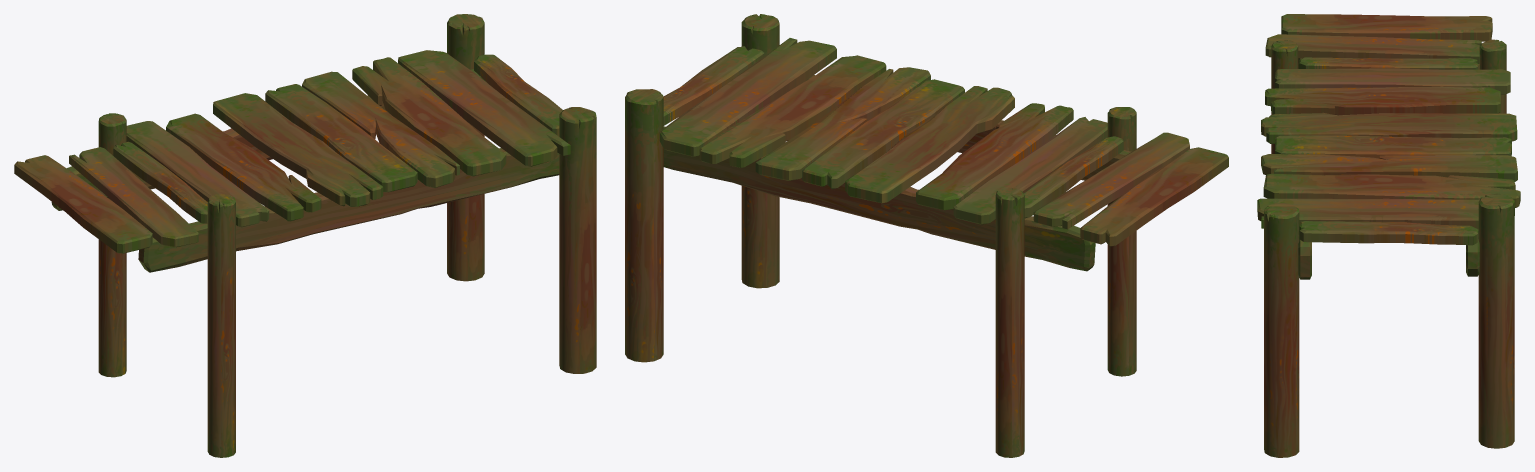
Rendered from prop_bridge_mesh0.FBX.
The picture shows the model from 3 angles, left to right: view 1: azimuth 30°, elevation 25°; view 2: azimuth 150°, elevation 25°; view 3: azimuth 270°, elevation 25°; orthographic projection. The views are drawn at different scales.
Visible parts, largest first — view 1: prop_bridge; view 2: prop_bridge; view 3: prop_bridge.
Boxes of the visible parts, x1=… form: prop_bridge: x1=14, y1=14, x2=596, y2=457; prop_bridge: x1=625, y1=14, x2=1228, y2=457; prop_bridge: x1=1257, y1=14, x2=1520, y2=457.
Size of the model in its own units: 4.98 by 2.62 by 2.5.
